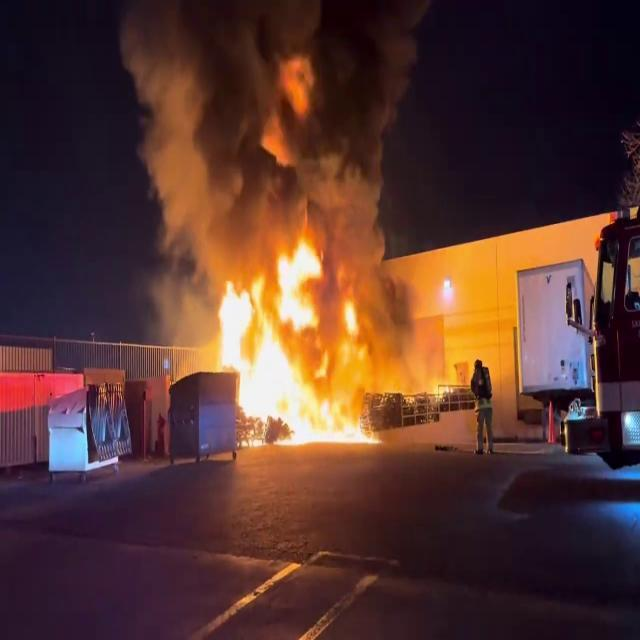Fire: (202, 231, 374, 446)
Smoke: (118, 0, 424, 276)
